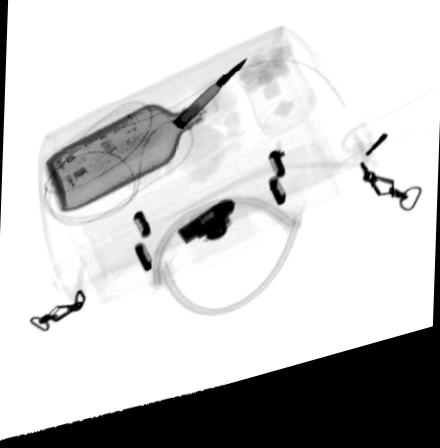Bullet: (172, 71, 247, 140)
